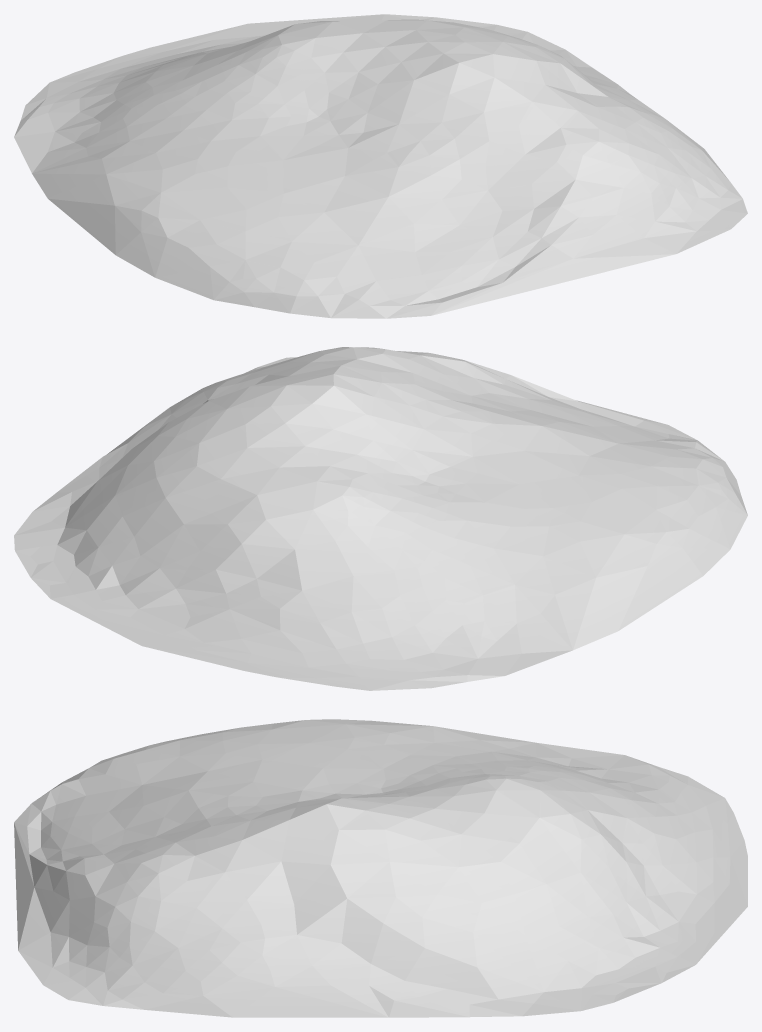
Rendered from Hill_14.glb.
The picture shows the model from 3 angles, top to bottom: view 1: azimuth 30°, elevation 25°; view 2: azimuth 150°, elevation 25°; view 3: azimuth 270°, elevation 25°; orthographic projection. The views are drawn at different scales.
Parts seen in each view (by area): view 1: Hill_14; view 2: Hill_14; view 3: Hill_14.
Boxes of the visible parts, left/top/right/bottom form: Hill_14: left=14, top=14, right=747, bottom=318; Hill_14: left=14, top=347, right=747, bottom=690; Hill_14: left=14, top=719, right=747, bottom=1017.
Bounding box in the file's own units: 56.23 × 10.09 × 61.
Materials: 1 (1 with a texture image).
